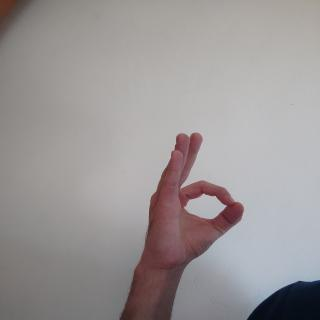Space: (134, 130, 254, 259)
